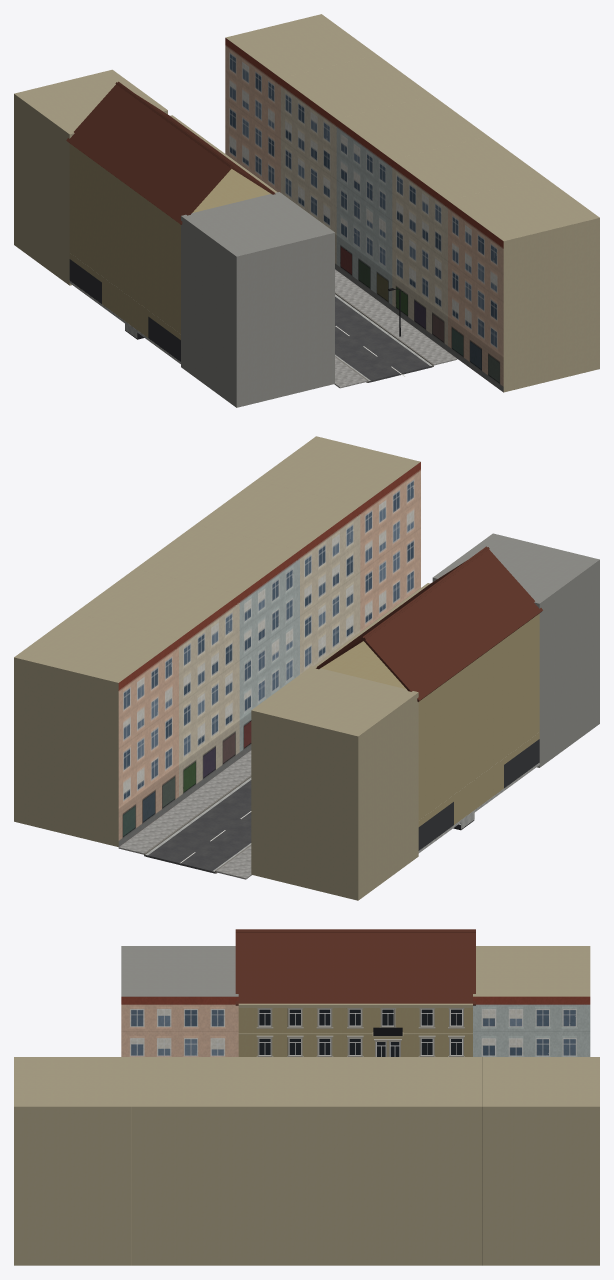
The model's file is laden.glb.
The picture shows the model from 3 angles, top to bottom: view 1: azimuth 30°, elevation 25°; view 2: azimuth 150°, elevation 25°; view 3: azimuth 270°, elevation 25°; orthographic projection. The views are drawn at different scales.
Visible parts, largest first — view 1: strasse|putz_gelb_hell|0, haus|ral7047|0, strasse|haus_c|0, strasse|haus_a|0, haus|putz_gelb|0, haus|putz_gelb_hell|0, haus|dach|0, strasse|haus_b|0, strasse|asphalt|0, strasse|gehweg|0, fassade|putz_gelb|0, fassade|poche|0; view 2: strasse|putz_gelb_hell|0, haus|putz_gelb_hell|0, strasse|haus_c|0, strasse|haus_a|0, haus|putz_gelb|0, haus|ral7047|0, haus|dach|0, strasse|haus_b|0, strasse|asphalt|0, strasse|gehweg|0, fassade|putz_gelb|0, fassade|poche|0; view 3: strasse|putz_gelb_hell|0, haus|dach|0, haus|putz_gelb_hell|0, haus|haus_c|0, haus|haus_b|0, haus|putz_gelb|0, haus|ral7047|0, haus|glas_dunkel|0, haus|putz_weiss|0, haus|fenster_weiss|0.
Part boxes in pixels (box(x1,y1,x2,y2)): strasse|putz_gelb_hell|0: box(225, 14, 599, 392); haus|ral7047|0: box(181, 192, 334, 407); strasse|haus_c|0: box(225, 38, 503, 392); strasse|haus_a|0: box(281, 78, 447, 351); haus|putz_gelb|0: box(69, 143, 270, 333); haus|putz_gelb_hell|0: box(14, 69, 277, 285); haus|dach|0: box(66, 81, 275, 224); strasse|haus_b|0: box(336, 119, 392, 310); strasse|asphalt|0: box(335, 296, 432, 382); strasse|gehweg|0: box(334, 269, 457, 388); fassade|putz_gelb|0: box(69, 253, 180, 339); fassade|poche|0: box(69, 259, 180, 361); strasse|putz_gelb_hell|0: box(14, 436, 420, 846); haus|putz_gelb_hell|0: box(251, 583, 430, 900); strasse|haus_c|0: box(118, 462, 420, 846); strasse|haus_a|0: box(179, 506, 360, 802); haus|putz_gelb|0: box(321, 613, 539, 820); haus|ral7047|0: box(432, 533, 599, 767); haus|dach|0: box(316, 546, 542, 701); strasse|haus_b|0: box(239, 550, 299, 758); strasse|asphalt|0: box(145, 780, 251, 873); strasse|gehweg|0: box(118, 750, 251, 879); fassade|putz_gelb|0: box(418, 732, 539, 826); fassade|poche|0: box(418, 739, 539, 850); strasse|putz_gelb_hell|0: box(14, 1057, 599, 1265); haus|dach|0: box(235, 929, 475, 1005); haus|putz_gelb_hell|0: box(238, 946, 590, 1037); haus|haus_c|0: box(121, 996, 238, 1056); haus|haus_b|0: box(473, 996, 590, 1056); haus|putz_gelb|0: box(238, 1008, 472, 1056); haus|ral7047|0: box(121, 946, 238, 996); haus|glas_dunkel|0: box(259, 1009, 461, 1056); haus|putz_weiss|0: box(256, 1008, 464, 1056); haus|fenster_weiss|0: box(259, 1009, 462, 1056).
Bounding box in the file's own units: 39.15 × 24.18 × 60.
Materials: 117 (64 with a texture image).
